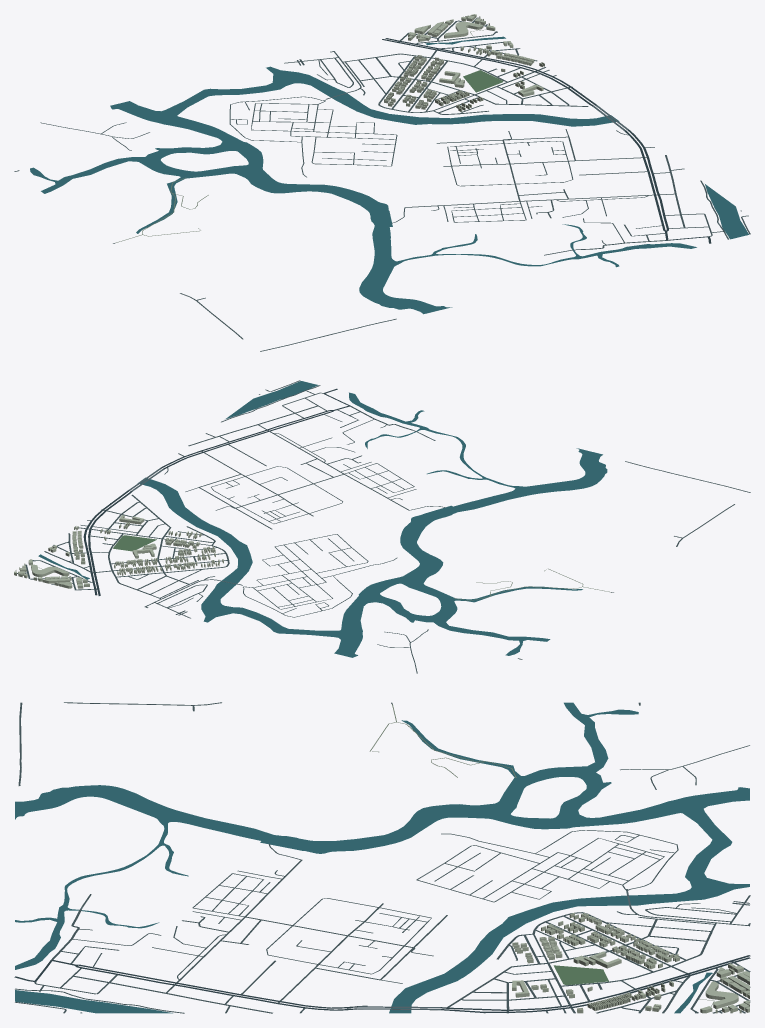
3 renders of one model, top to bottom at view 1: azimuth 30°, elevation 25°; view 2: azimuth 150°, elevation 25°; view 3: azimuth 270°, elevation 25°, orthographic. The views are drawn at different scales.
Visible parts, largest first — view 1: water, street, building, major; view 2: water, street, building, major; view 3: water, street, building, major, green.
Boxes of the visible parts, left/top/right/bottom form: water: left=30, top=36, right=748, bottom=314; street: left=14, top=17, right=750, bottom=351; building: left=384, top=14, right=544, bottom=111; major: left=382, top=38, right=711, bottom=243; water: left=38, top=381, right=607, bottom=657; street: left=17, top=380, right=750, bottom=673; building: left=14, top=515, right=223, bottom=588; major: left=83, top=388, right=350, bottom=595; water: left=15, top=702, right=749, bottom=1013; street: left=15, top=702, right=750, bottom=1013; building: left=512, top=913, right=749, bottom=1013; major: left=14, top=955, right=750, bottom=1012; green: left=553, top=965, right=608, bottom=985.
Size of the model in its own units: 2005 by 10.7 by 2005.
